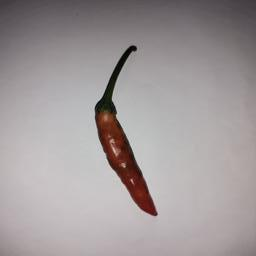Buah Cabai Sehat: (92, 96, 158, 217)
